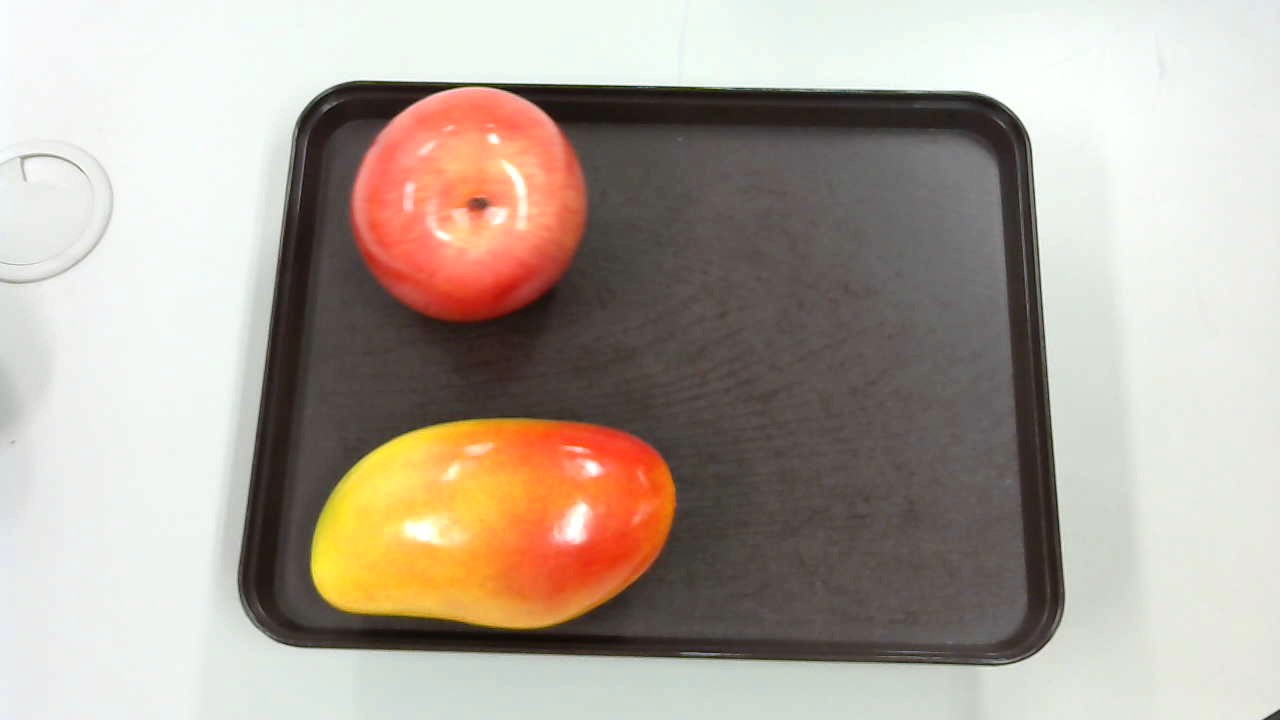red apple: (350, 86, 587, 322)
red mango: (301, 415, 682, 629)
